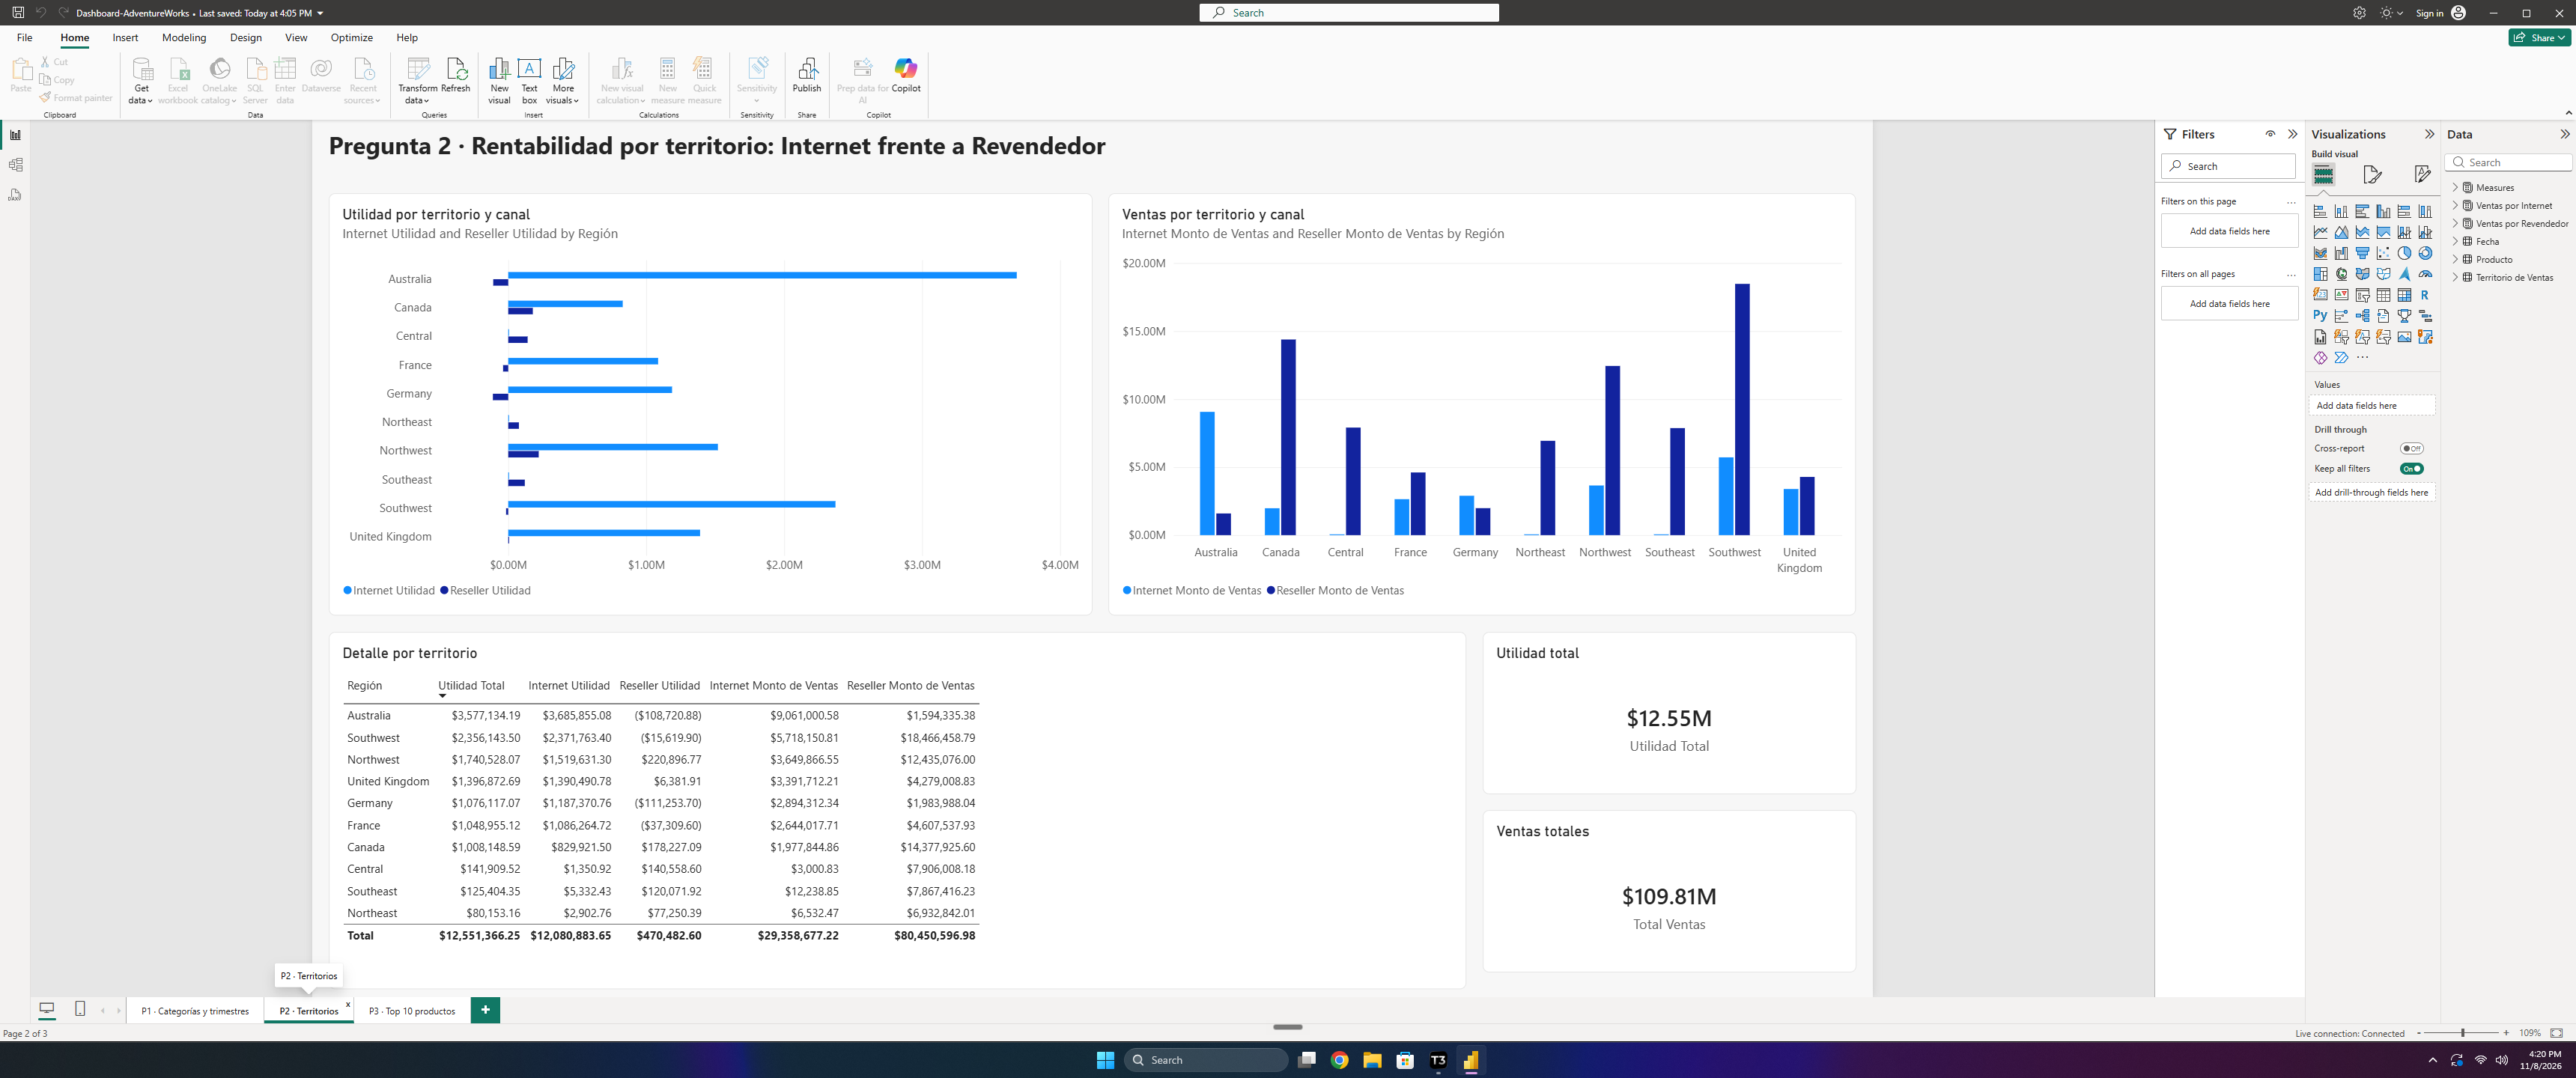

This screenshot's page, from the dashboard's own definition file:
{"tool":"powerbi","page":{"name":"P2 · Territorios","canvas":[1920,1080],"ordinal":1},"visuals":[{"type":"textbox","box":[20,10,1880,70],"z":0},{"type":"clusteredBarChart","title":"Utilidad por territorio y canal","fields":{"Category":["Territorio de Ventas.Región"],"Y":["Measures.Internet Utilidad","Measures.Reseller Utilidad"]},"box":[20,90,940,520],"z":1},{"type":"clusteredColumnChart","title":"Ventas por territorio y canal","fields":{"Category":["Territorio de Ventas.Región"],"Y":["Ventas por Internet.Internet Monto de Ventas","Ventas por Revendedor.Reseller Monto de Ventas"]},"box":[980,90,920,520],"z":2},{"type":"tableEx","title":"Detalle por territorio","fields":{"Values":["Territorio de Ventas.Región","Measures.Utilidad Total","Measures.Internet Utilidad","Measures.Reseller Utilidad","Ventas por Internet.Internet Monto de Ventas","Ventas por Revendedor.Reseller Monto de Ventas"]},"box":[20,630,1400,440],"z":3},{"type":"card","title":"Utilidad total","fields":{"Values":["Measures.Utilidad Total"]},"box":[1440,630,460,200],"z":4},{"type":"card","title":"Ventas totales","fields":{"Values":["Measures.Total Ventas"]},"box":[1440,850,460,200],"z":5}]}

Visuals, with their boxes on the page's 1920x1080 design canvas (x1, y1, x2, y2). These are canvas units, not pixel positions in the 2576x1078 screenshot, which may show the page scaled, cropped or inside an application window:
textbox: locate(20, 10, 1900, 80)
"Utilidad por territorio y canal" clusteredBarChart: locate(20, 90, 960, 610)
"Ventas por territorio y canal" clusteredColumnChart: locate(980, 90, 1900, 610)
"Detalle por territorio" tableEx: locate(20, 630, 1420, 1070)
"Utilidad total" card: locate(1440, 630, 1900, 830)
"Ventas totales" card: locate(1440, 850, 1900, 1050)
